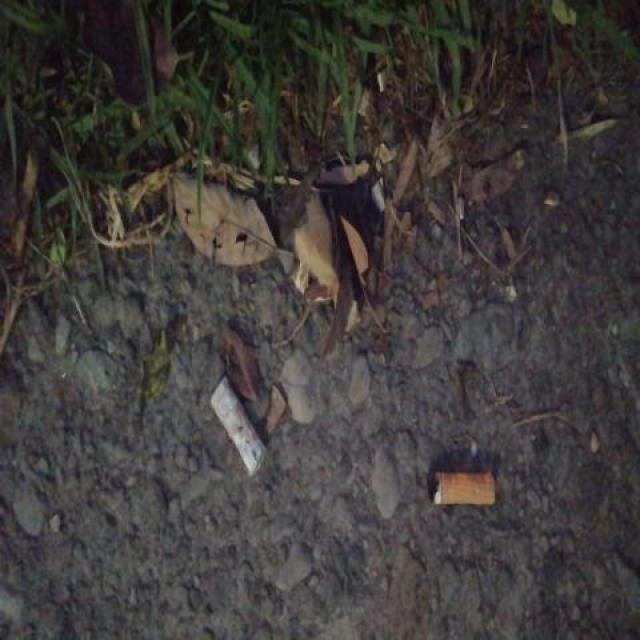non-organic waste: (206, 370, 274, 481), (422, 464, 503, 513)
